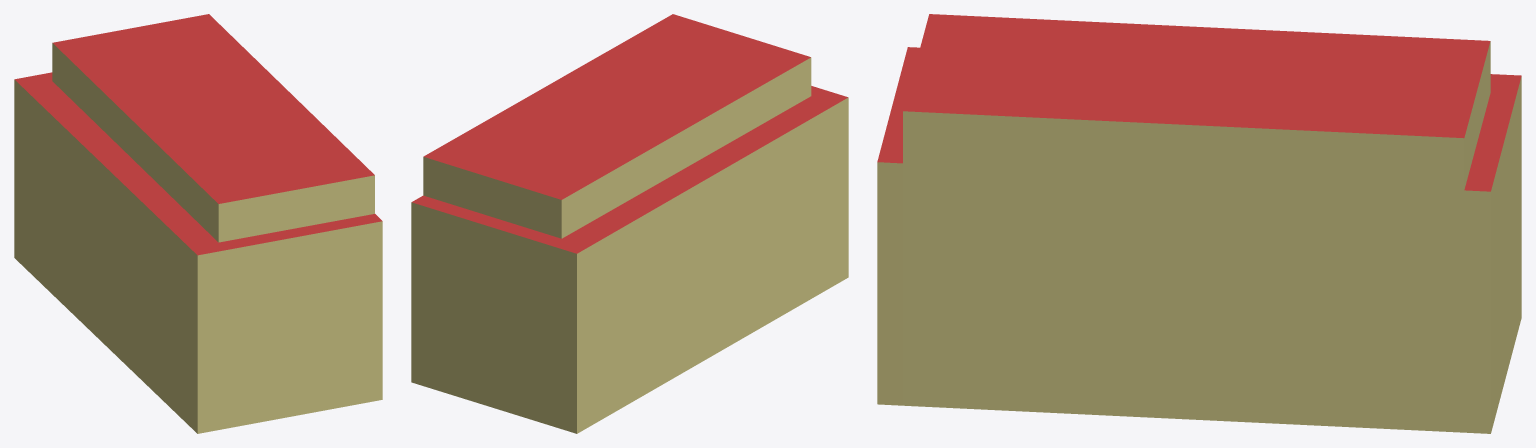
3 renders of one model, left to right at view 1: azimuth 30°, elevation 25°; view 2: azimuth 150°, elevation 25°; view 3: azimuth 270°, elevation 25°, orthographic. The views are drawn at different scales.
Parts seen in each view (by area): view 1: group_4, group_6, group_7, group_3; view 2: group_4, group_6, group_7, group_3; view 3: group_7, group_6, group_4, group_3.
Part boxes in pixels (box(x1,y1,x2,y2)): group_4: box(14, 79, 382, 433); group_6: box(52, 14, 374, 203); group_7: box(52, 43, 374, 242); group_3: box(14, 72, 382, 255); group_4: box(411, 97, 848, 433); group_6: box(423, 14, 810, 199); group_7: box(423, 57, 811, 238); group_3: box(412, 86, 847, 253); group_7: box(903, 41, 1490, 432); group_6: box(903, 14, 1490, 138); group_4: box(877, 76, 1521, 433); group_3: box(877, 47, 1521, 191).
Bounding box in the file's own units: 14.37 × 27.05 × 13.64.
